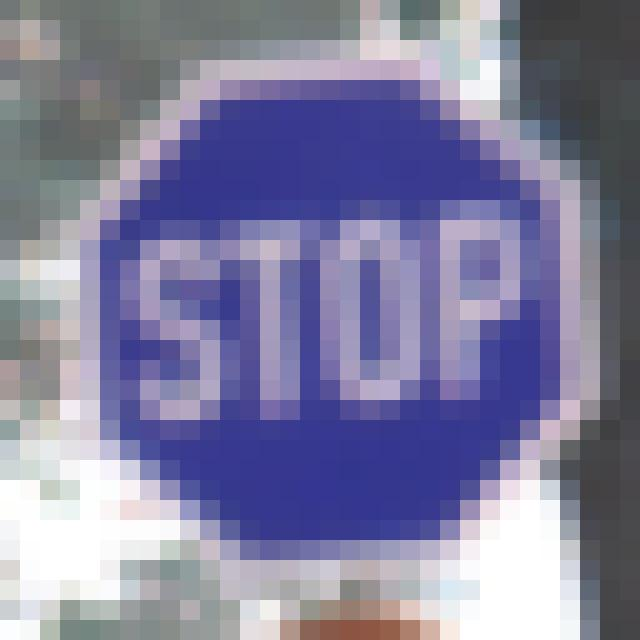STOP: (92, 88, 567, 540)
